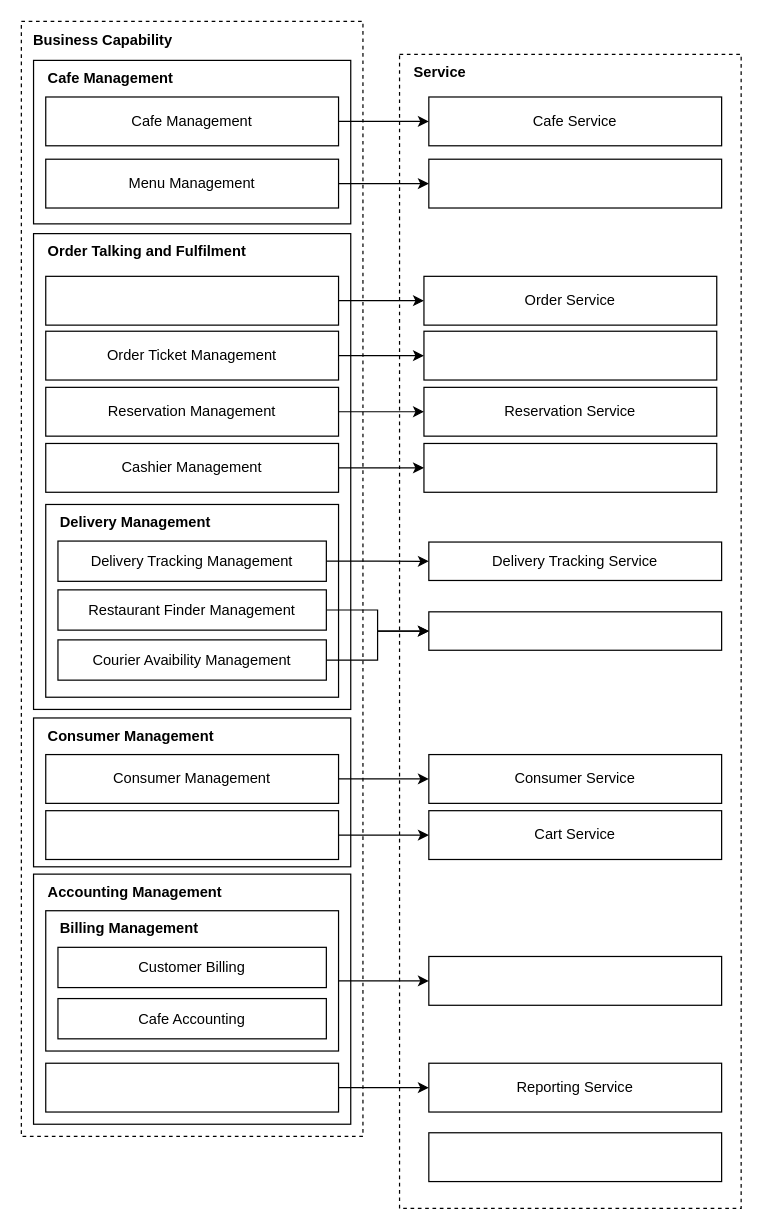
The diagram is 763 pixels wide and 1230 high, and some of its shapes have lost their labels. The centre of each missing label's shape, as x and y in pixels:
Cart Management: (192,834)
Cashier Service: (570,467)
Delivery Service: (575,630)
Kitchen Service: (570,355)
Menu Service: (575,183)
Notification Service: (575,1157)
Order Management: (192,300)
Payment Service: (575,980)
Reporting Management: (192,1087)
